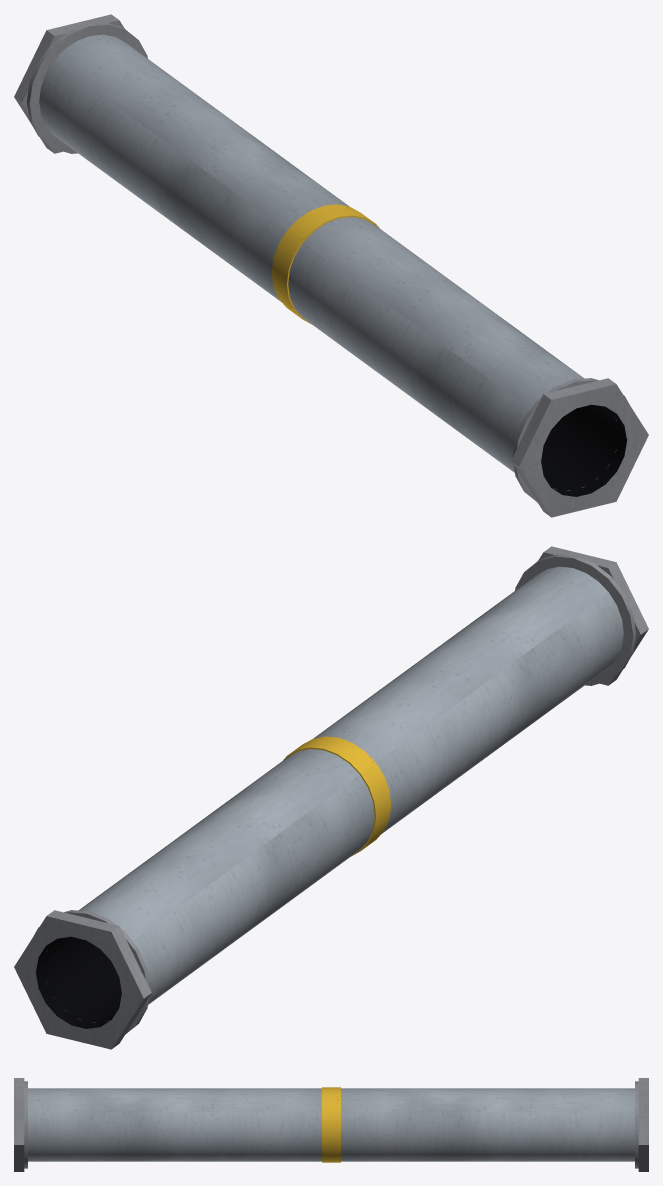
File: small_pipe_long.glb
The picture shows the model from 3 angles, top to bottom: view 1: azimuth 30°, elevation 25°; view 2: azimuth 150°, elevation 25°; view 3: azimuth 270°, elevation 25°; orthographic projection. The views are drawn at different scales.
Visible parts, largest first — view 1: Body.001; view 2: Body.001; view 3: Body.001.
Boxes of the visible parts, <box> form: Body.001: <box>14,14,648,517</box>; Body.001: <box>14,546,648,1049</box>; Body.001: <box>14,1078,648,1171</box>.
Size of the model in its own units: 0.148 by 0.1376 by 0.997.
Materials: 4 (3 with a texture image).
